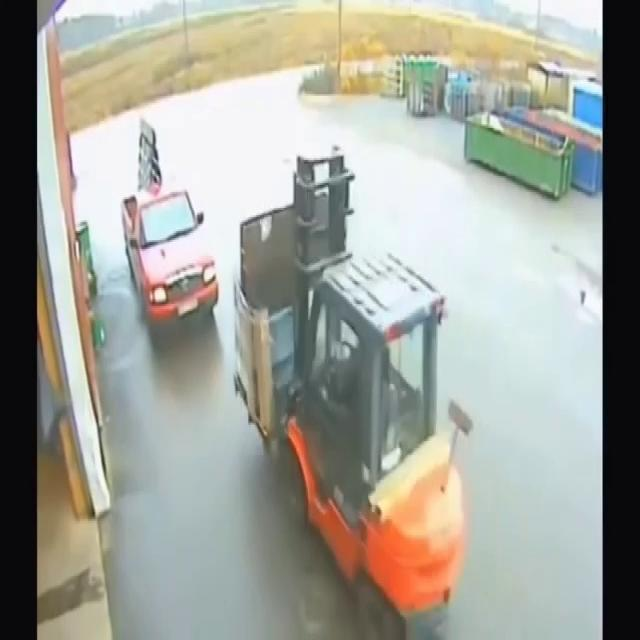forklift: (233, 151, 474, 640)
